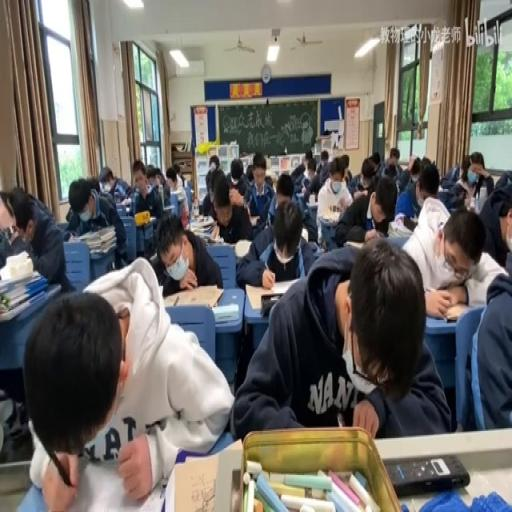calculator: (34, 453, 155, 512), (171, 453, 222, 512), (75, 224, 117, 254), (426, 294, 458, 323), (212, 302, 238, 322), (436, 186, 454, 209), (234, 238, 252, 258), (190, 213, 213, 226), (318, 212, 341, 225), (115, 199, 129, 216), (66, 232, 82, 243), (345, 240, 363, 249), (210, 222, 219, 239), (174, 188, 185, 200), (247, 215, 259, 226), (157, 184, 163, 206), (306, 199, 318, 208), (301, 184, 310, 196), (300, 225, 307, 240), (162, 204, 172, 210)
paper: (229, 234, 438, 436), (0, 183, 77, 431), (402, 196, 506, 317), (151, 209, 221, 296), (334, 169, 393, 246), (204, 175, 254, 247), (278, 168, 318, 243), (131, 161, 167, 240), (394, 158, 438, 220), (452, 152, 490, 209), (245, 154, 274, 228), (98, 164, 131, 202), (204, 154, 222, 194), (381, 148, 401, 182), (12, 203, 34, 232), (439, 162, 460, 188), (0, 196, 14, 231), (493, 170, 512, 194), (499, 212, 512, 247), (338, 153, 350, 185), (290, 162, 306, 186), (360, 158, 376, 182), (230, 160, 243, 184), (302, 151, 314, 175), (346, 170, 358, 194), (166, 168, 178, 189), (409, 158, 421, 179), (421, 155, 431, 174), (127, 192, 136, 213), (354, 186, 367, 200), (245, 164, 254, 184), (318, 148, 328, 166), (371, 151, 381, 166), (102, 176, 112, 190), (264, 175, 274, 188), (148, 179, 158, 188), (156, 176, 163, 186)
person: (384, 452, 470, 496), (228, 468, 241, 510), (260, 292, 282, 316), (402, 215, 416, 232)
